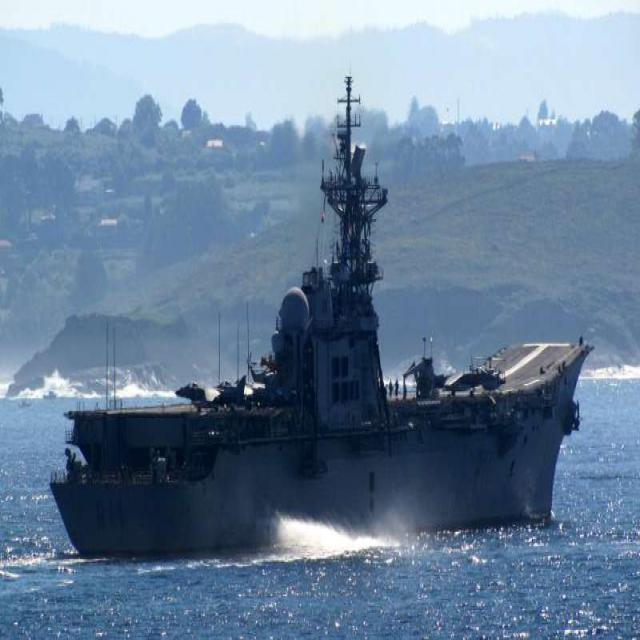Portanaves: (46, 69, 593, 567)
